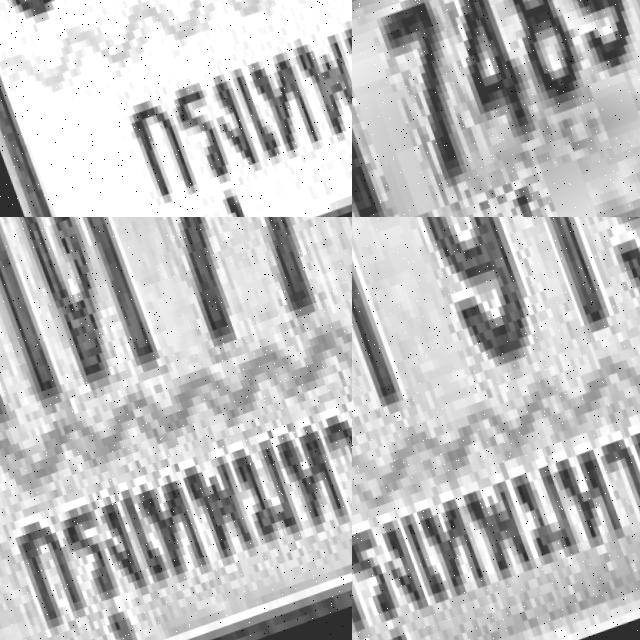license-plate: (0, 217, 352, 640), (352, 217, 640, 640), (0, 0, 352, 217), (352, 0, 640, 217)
